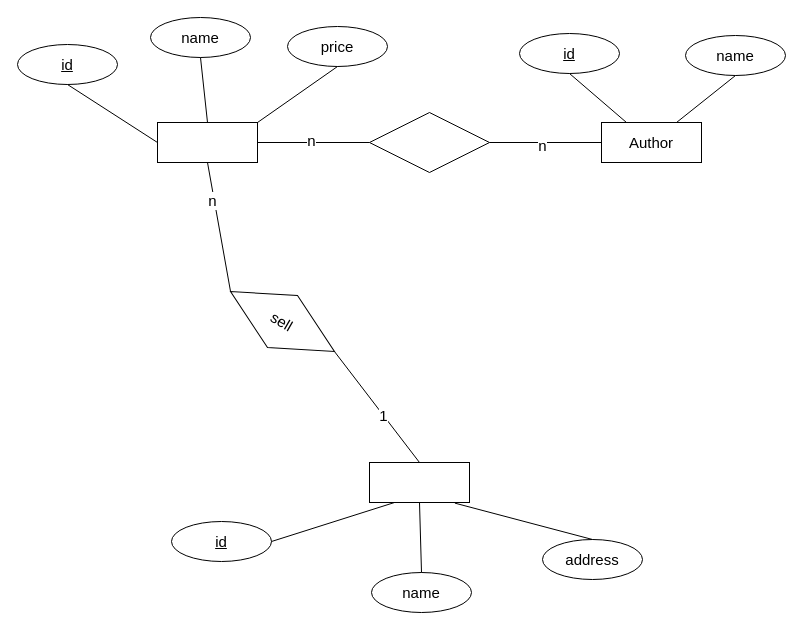
The diagram is 803 pixels wide and 630 high, and some of its shapes have lost their labels. Here are the shapes that lost their labels. From the top down, the centre of each, then its label:
point (207, 142): Book
point (429, 142): write
point (419, 482): Staff
